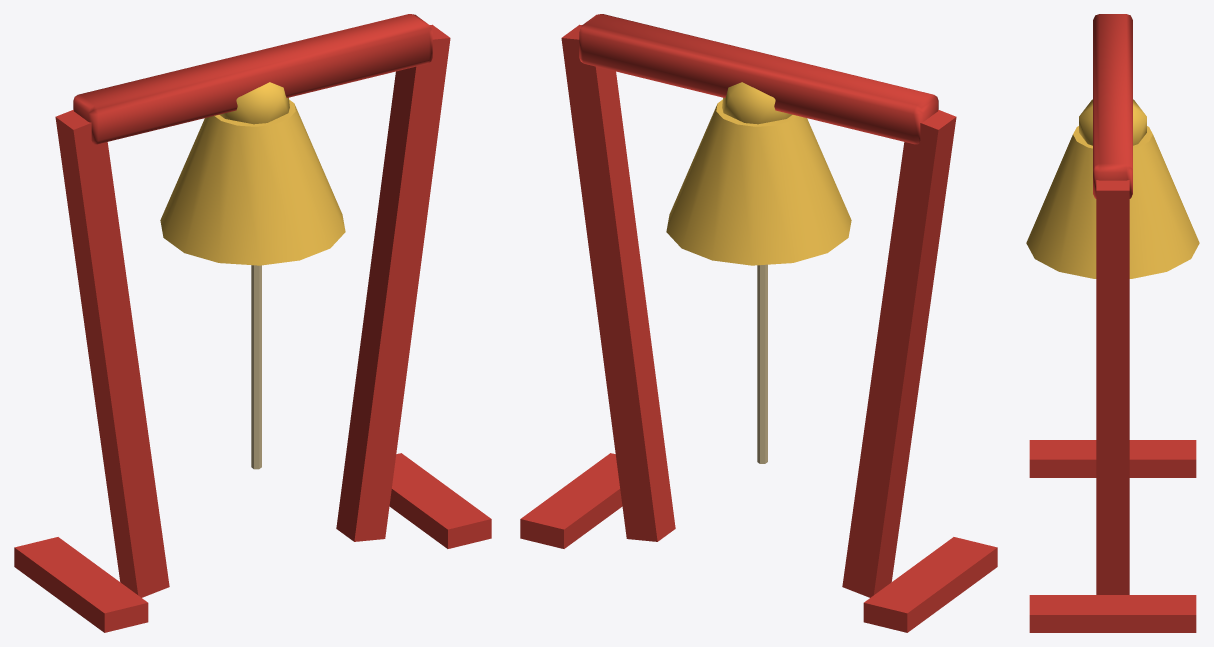
File: v_fire_bell.glb
3 views of the same model, side by side, from view 1: azimuth 30°, elevation 25°; view 2: azimuth 150°, elevation 25°; view 3: azimuth 270°, elevation 25° (orthographic). The views are drawn at different scales.
Visible parts, largest first — view 1: FireBell; view 2: FireBell; view 3: FireBell.
Boxes of the visible parts, left/top/right/bottom form: FireBell: left=14, top=14, right=491, bottom=632; FireBell: left=520, top=14, right=997, bottom=632; FireBell: left=1026, top=14, right=1199, bottom=632.
Bounding box in the file's own units: 1.24 × 1.54 × 0.52.
